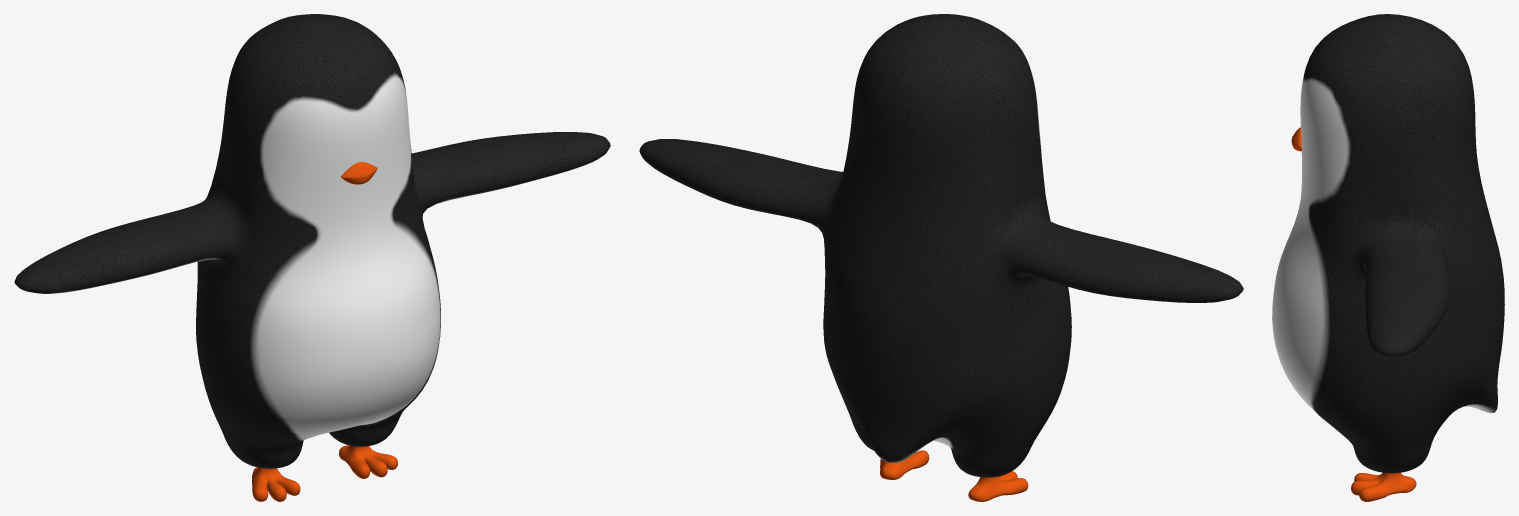
Rendered from penguin 1.fbx.
3 renders of one model, left to right at view 1: azimuth 30°, elevation 25°; view 2: azimuth 150°, elevation 25°; view 3: azimuth 270°, elevation 25°, orthographic. The views are drawn at different scales.
Visible parts, largest first — view 1: Cube; view 2: Cube; view 3: Cube.
Boxes of the visible parts, bbox=[...] form: Cube: bbox=[14, 14, 610, 501]; Cube: bbox=[639, 14, 1243, 501]; Cube: bbox=[1272, 14, 1504, 501].
Bounding box in the file's own units: 378 × 278 × 131.
Materials: 2 (1 with a texture image).
